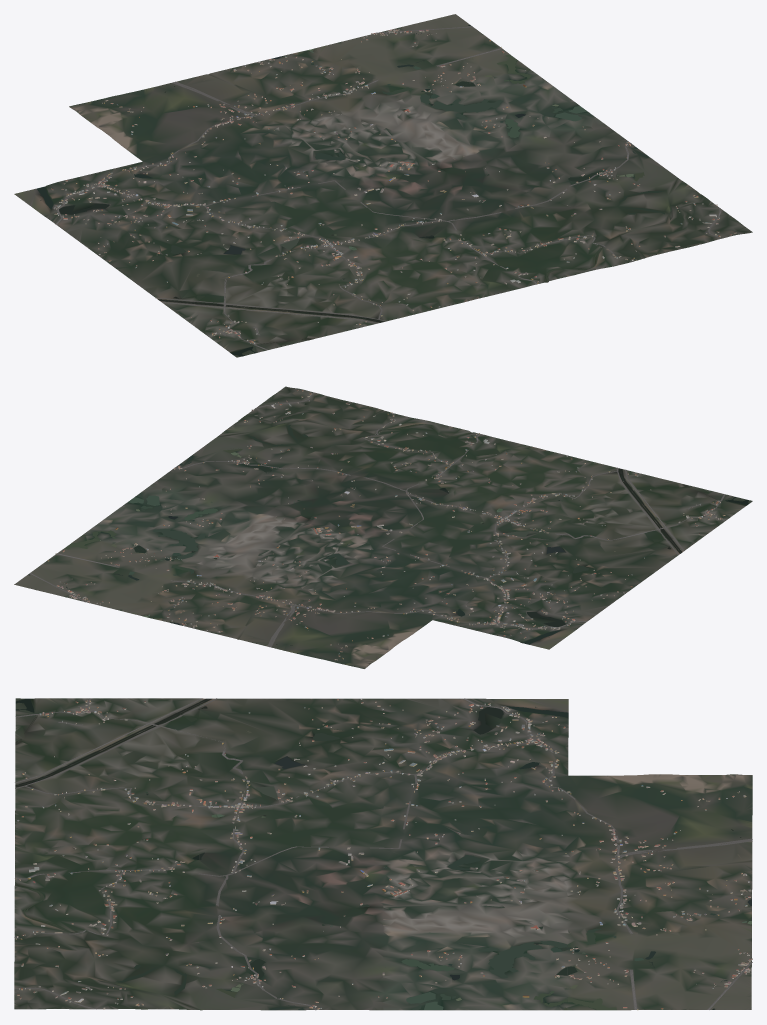
The picture shows the model from 3 angles, top to bottom: view 1: azimuth 30°, elevation 25°; view 2: azimuth 150°, elevation 25°; view 3: azimuth 270°, elevation 25°; orthographic projection. The views are drawn at different scales.
Parts seen in each view (by area): view 1: ground, buildings, water, roads; view 2: ground, buildings, water, roads; view 3: ground, buildings, water, roads.
Part boxes in pixels (left/top/right/bottom): ground: left=14, top=14, right=752, bottom=357; buildings: left=51, top=29, right=736, bottom=343; water: left=37, top=25, right=671, bottom=356; roads: left=55, top=26, right=721, bottom=350; ground: left=14, top=386, right=752, bottom=668; buildings: left=47, top=390, right=725, bottom=660; water: left=28, top=424, right=749, bottom=645; roads: left=29, top=392, right=725, bottom=647; ground: left=14, top=698, right=752, bottom=1010; buildings: left=15, top=698, right=752, bottom=1010; water: left=15, top=698, right=751, bottom=1010; roads: left=14, top=698, right=752, bottom=1010.
Size of the model in its own units: 5609 by 44.25 by 5620.
